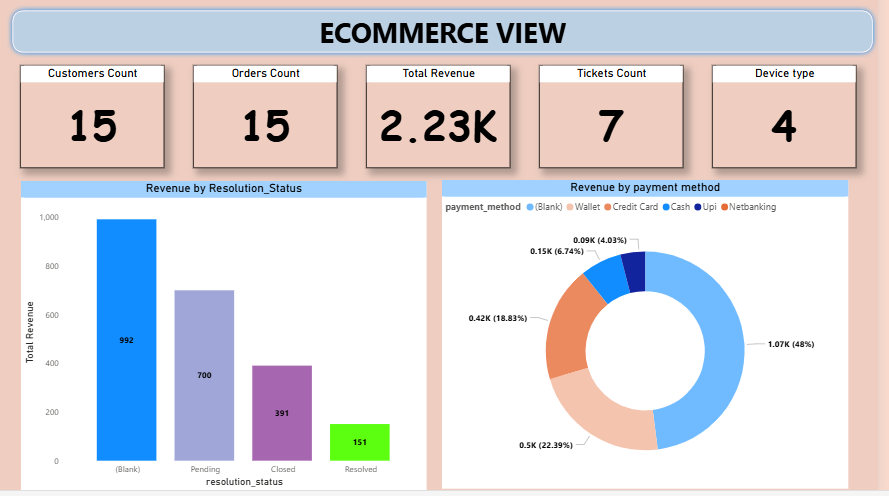

Layout of this report page (visuals, bound fields, positions):
{"tool":"powerbi","page":{"name":"page 2","canvas":[1280,720],"ordinal":1},"visuals":[{"type":"shape","box":[12.8,14.3,1267.2,77.1],"z":0},{"type":"card","title":"Customers Count ","fields":{"Values":["Count(gold_customers.customer_id)"]},"box":[32.6,102,209.8,150.2],"z":1000},{"type":"card","title":"Orders Count ","fields":{"Values":["Count(gold_customers.order_id)"]},"box":[283.8,101.3,209.8,149.8],"z":2000},{"type":"card","title":"Total Revenue","fields":{"Values":["Sum(gold_customers.order_amount)"]},"box":[535,101.6,209.8,149.8],"z":3000},{"type":"card","title":"Tickets Count ","fields":{"Values":["Count(gold_customers.ticket_id)"]},"box":[786.2,101.8,209.8,149.8],"z":4000},{"type":"card","title":"Device type ","fields":{"Values":["Count(gold_customers.device_type)"]},"box":[1038.8,101.3,209.8,149.8],"z":5000},{"type":"donutChart","title":"Revenue by payment method","fields":{"Y":["Sum(gold_customers.order_amount)"],"Category":["gold_customers.payment_method"]},"box":[646.3,269.3,591,449.3],"z":6000},{"type":"columnChart","title":"Revenue by Resolution_Status ","fields":{"Category":["gold_customers.resolution_status"],"Y":["Sum(gold_customers.order_amount)"]},"box":[33.2,270.2,590.2,449.8],"z":7000}]}

Visuals, with their boxes in screenshot pixels (x1, y1, x2, y2), scaled from the page's 1280x720 canvas onto the 889x496 screenshot:
shape: (9,10,888,63)
"Customers Count " card: (23,70,168,174)
"Orders Count " card: (197,70,343,173)
"Total Revenue" card: (372,70,517,173)
"Tickets Count " card: (546,70,692,173)
"Device type " card: (721,70,867,173)
"Revenue by payment method" donutChart: (449,186,859,495)
"Revenue by Resolution_Status " columnChart: (23,186,433,495)
